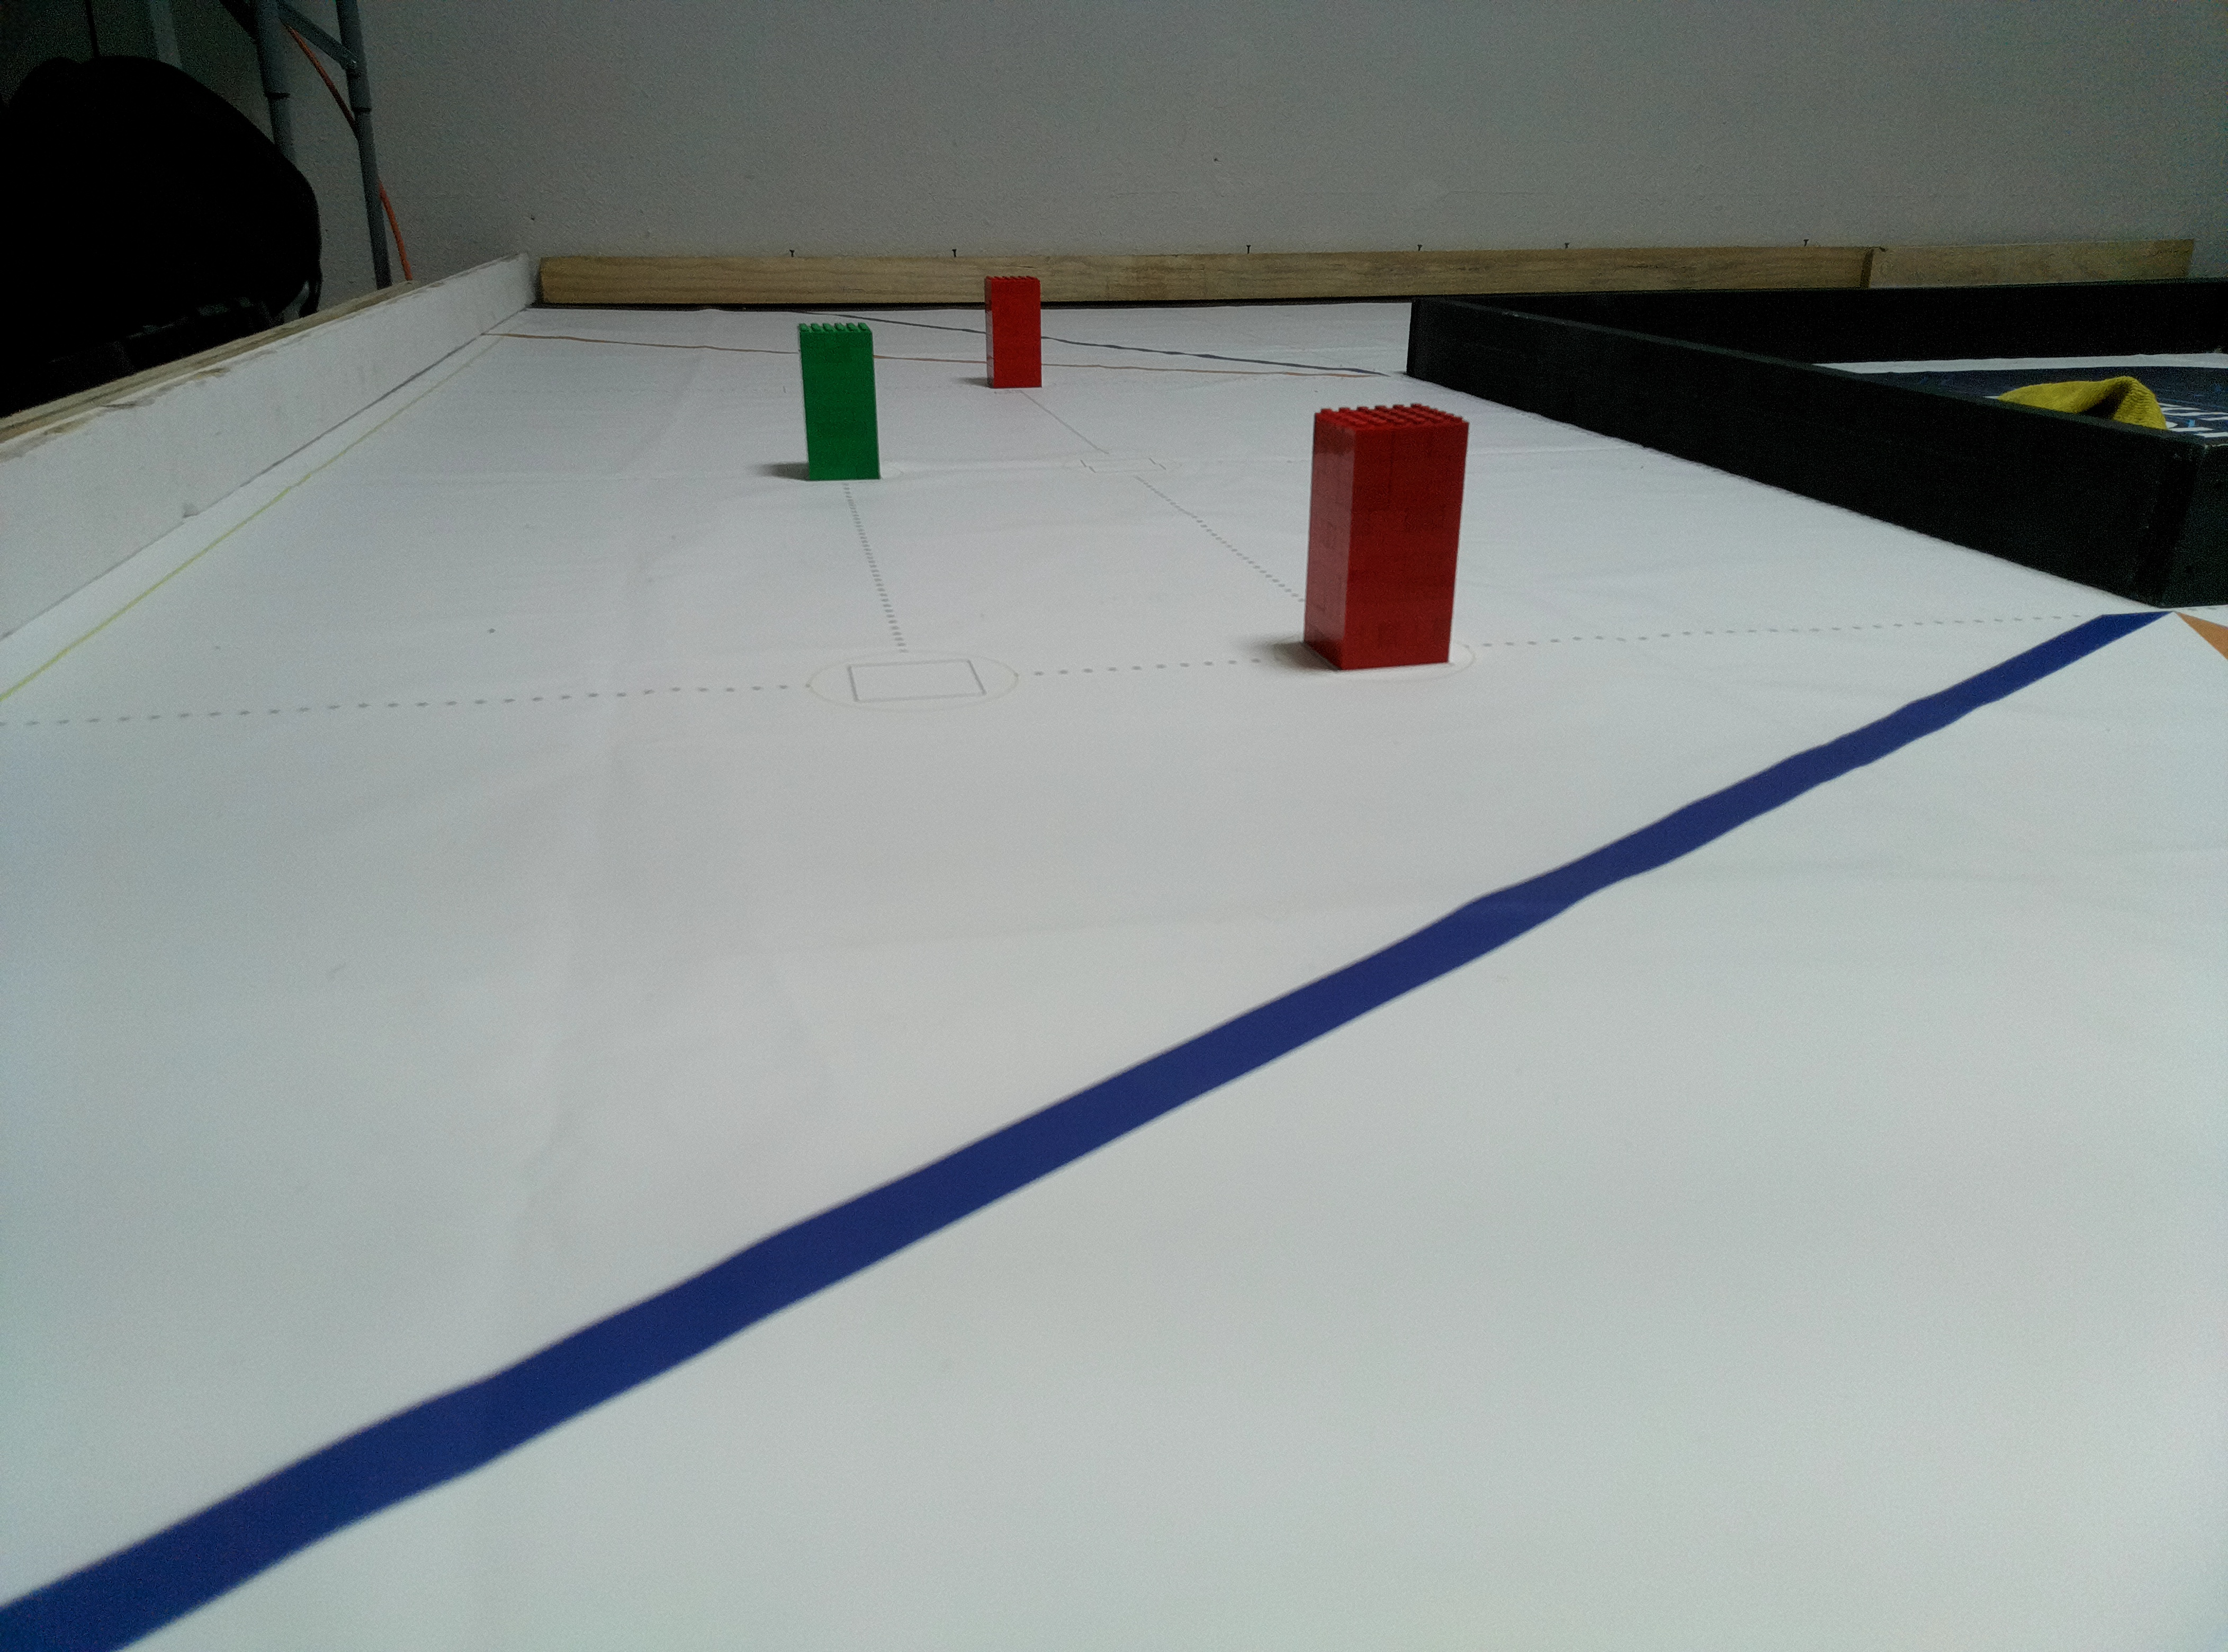greenbox: (793, 321, 881, 482)
redbox: (1300, 399, 1471, 673), (982, 276, 1045, 390)
